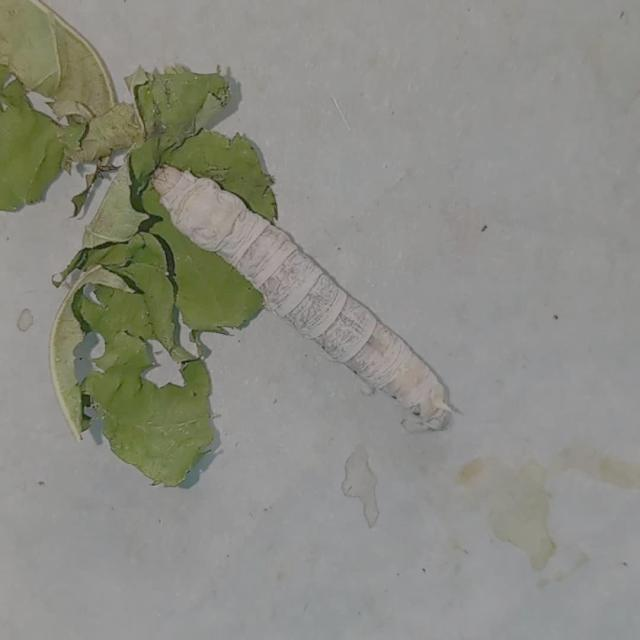Grasserie: (150, 155, 460, 441)
